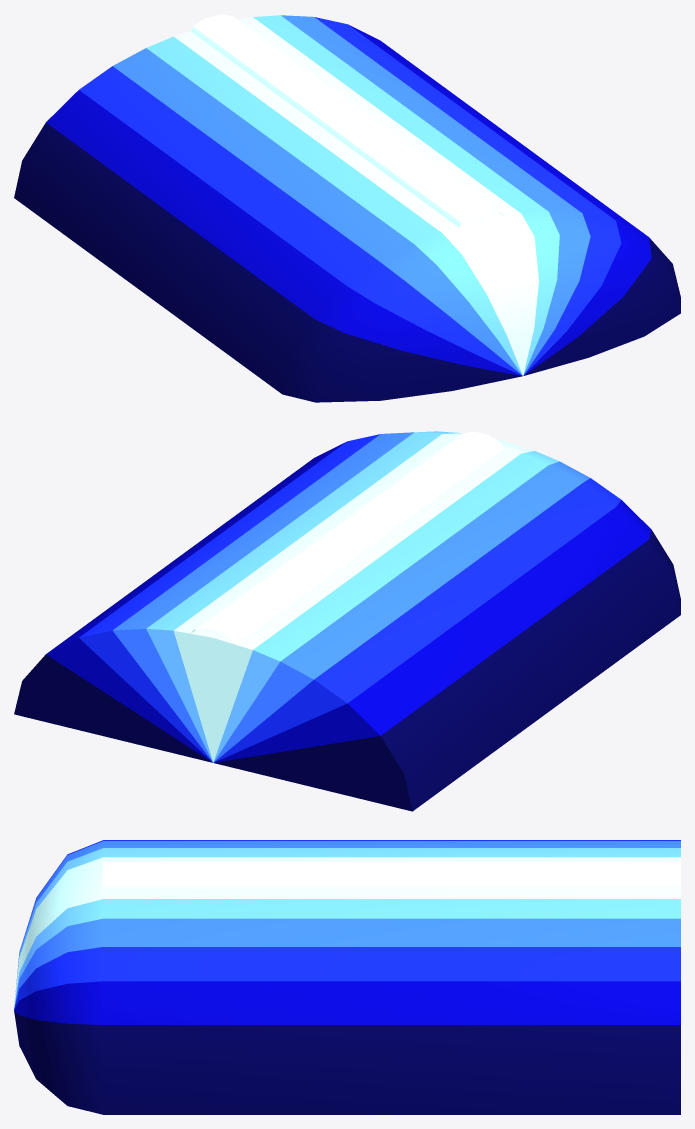
The model's file is shot_zica_120.glb.
3 views of the same model, one above another, from view 1: azimuth 30°, elevation 25°; view 2: azimuth 150°, elevation 25°; view 3: azimuth 270°, elevation 25° (orthographic). The views are drawn at different scales.
Visible parts, largest first — view 1: shot_zica_120_rod, shot_zica_120_core; view 2: shot_zica_120_rod, shot_zica_120_core; view 3: shot_zica_120_rod, shot_zica_120_core.
Part boxes in pixels (x1,y1,x2,y2): shot_zica_120_rod: (14, 15, 680, 402); shot_zica_120_core: (191, 14, 503, 227); shot_zica_120_rod: (14, 431, 680, 811); shot_zica_120_core: (191, 431, 503, 644); shot_zica_120_rod: (14, 840, 680, 1114); shot_zica_120_core: (103, 862, 680, 888).
Bounding box in the file's own units: 12 × 3.83 × 16.16.
